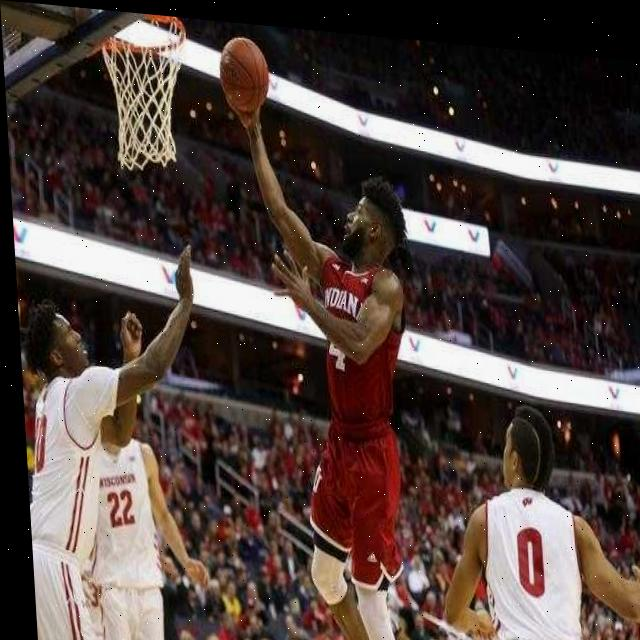basketball: (216, 32, 273, 118)
hoop: (94, 9, 197, 179)
